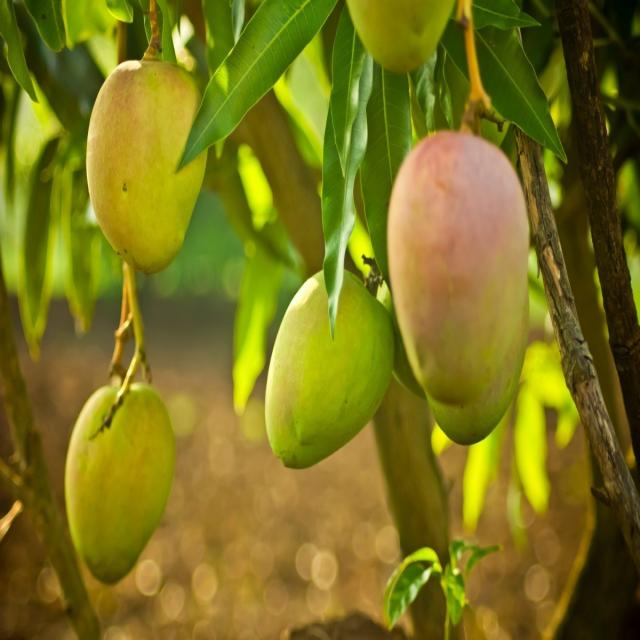Mango: (383, 92, 540, 465), (72, 50, 221, 300), (51, 352, 202, 579), (263, 254, 405, 481)
